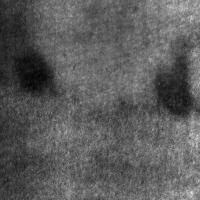patches: (36, 0, 188, 109), (0, 0, 96, 69), (104, 18, 180, 94), (153, 50, 192, 116), (12, 48, 53, 91)
